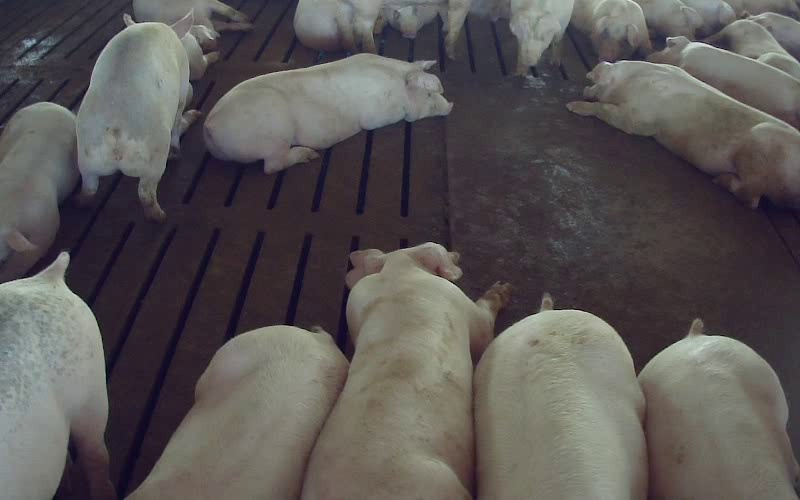pig: (303, 243, 510, 499), (127, 326, 348, 499), (474, 293, 647, 499), (567, 61, 799, 208), (204, 53, 451, 173), (639, 319, 797, 499), (0, 252, 114, 499), (77, 11, 192, 220), (647, 36, 799, 128), (0, 102, 78, 281), (570, 0, 651, 61), (509, 0, 573, 76)
